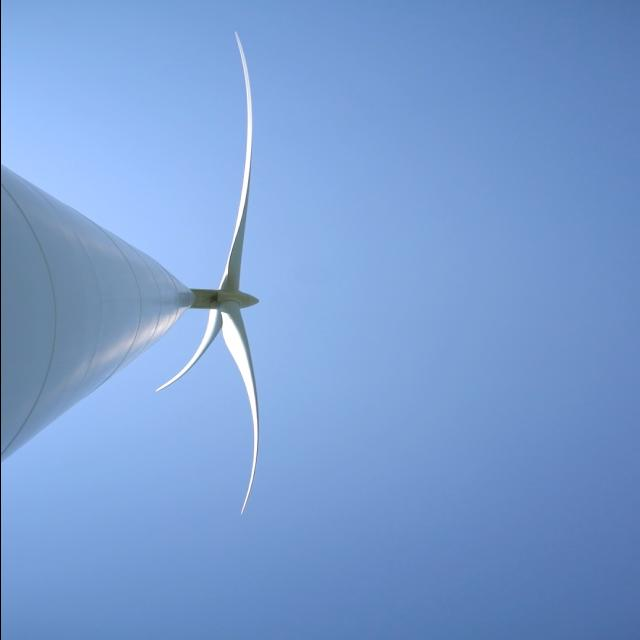blade 1: (228, 15, 290, 267)
blade 2: (226, 326, 274, 502)
blade 3: (150, 339, 212, 402)
